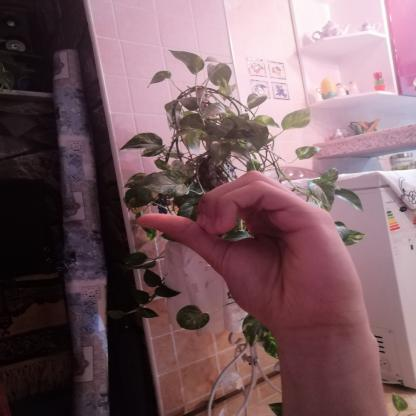WAW: (115, 163, 390, 350)
